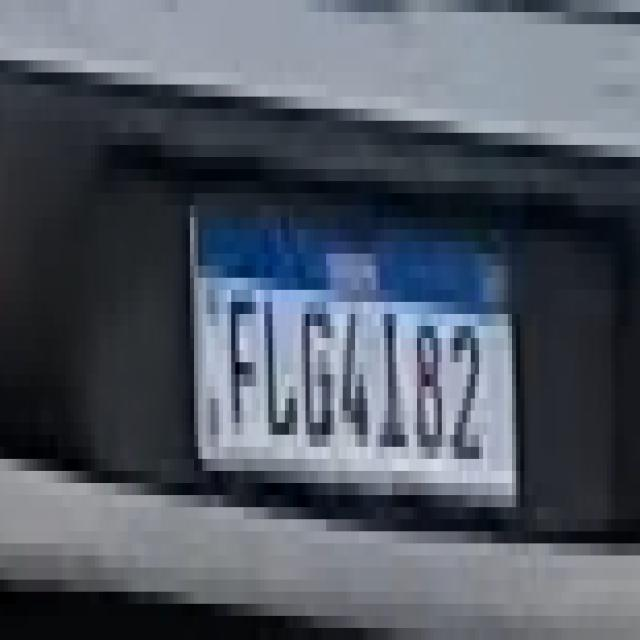Placa_mercosul_carro: (188, 206, 519, 511)
